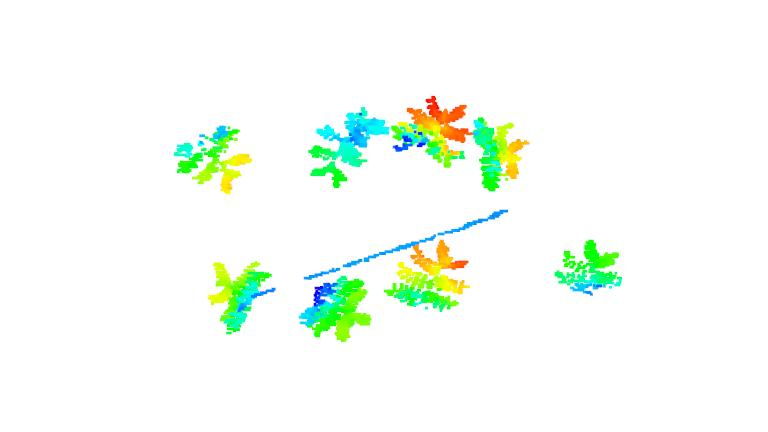chickpea: (304, 102, 385, 191), (388, 90, 472, 169), (384, 240, 471, 312), (172, 124, 250, 194), (203, 254, 271, 334), (297, 275, 374, 341), (470, 113, 523, 192), (555, 240, 623, 297)
